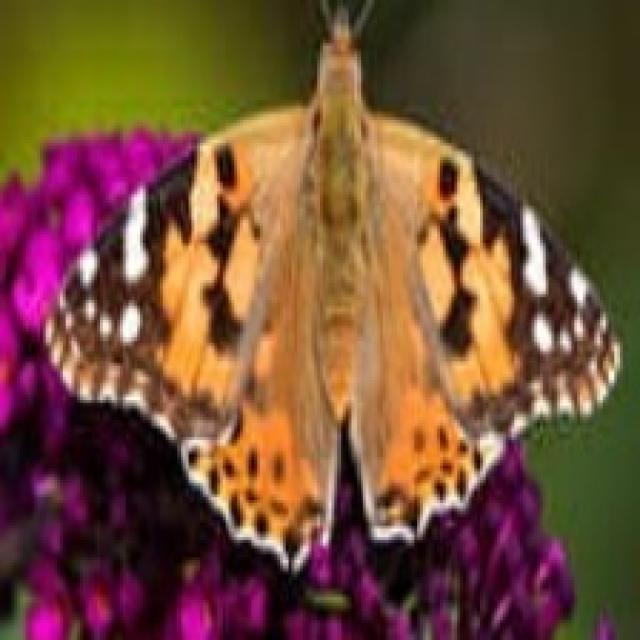butterfly: (49, 1, 622, 566)
